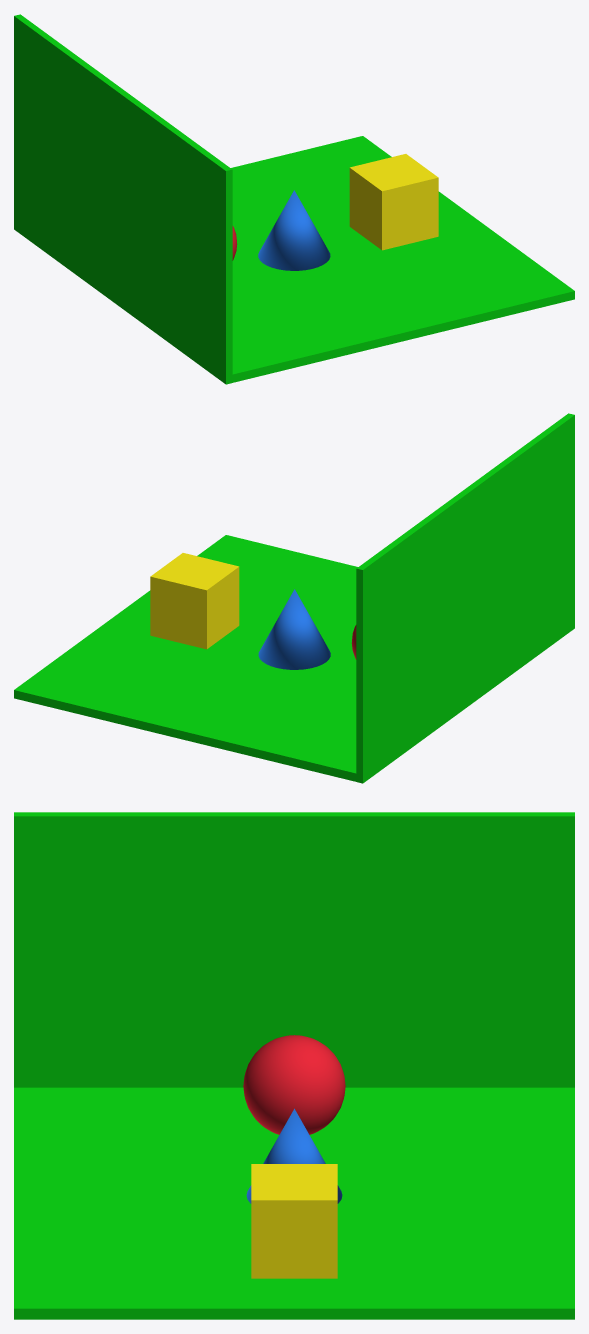
File: BlenderScene.fbx
3 renders of one model, top to bottom at view 1: azimuth 30°, elevation 25°; view 2: azimuth 150°, elevation 25°; view 3: azimuth 270°, elevation 25°, orthographic. The views are drawn at different scales.
Visible parts, largest first — view 1: WalLeft, WallDown, Cube, Cone; view 2: WalLeft, WallDown, Cube, Cone; view 3: WalLeft, WallDown, Cube, Sphere, Cone.
Boxes of the visible parts, left/top/right/bottom form: WalLeft: left=14, top=14, right=232, bottom=384; WallDown: left=231, top=136, right=574, bottom=382; Cube: left=349, top=154, right=438, bottom=250; Cone: left=258, top=190, right=330, bottom=270; WalLeft: left=356, top=413, right=574, bottom=783; WallDown: left=14, top=535, right=358, bottom=782; Cube: left=150, top=553, right=239, bottom=649; Cone: left=258, top=589, right=330, bottom=669; WalLeft: left=14, top=812, right=574, bottom=1087; WallDown: left=14, top=1087, right=574, bottom=1319; Cube: left=251, top=1164, right=337, bottom=1278; Sphere: left=243, top=1035, right=345, bottom=1134; Cone: left=246, top=1108, right=342, bottom=1203.
Size of the model in its own units: 924 by 540 by 972.
